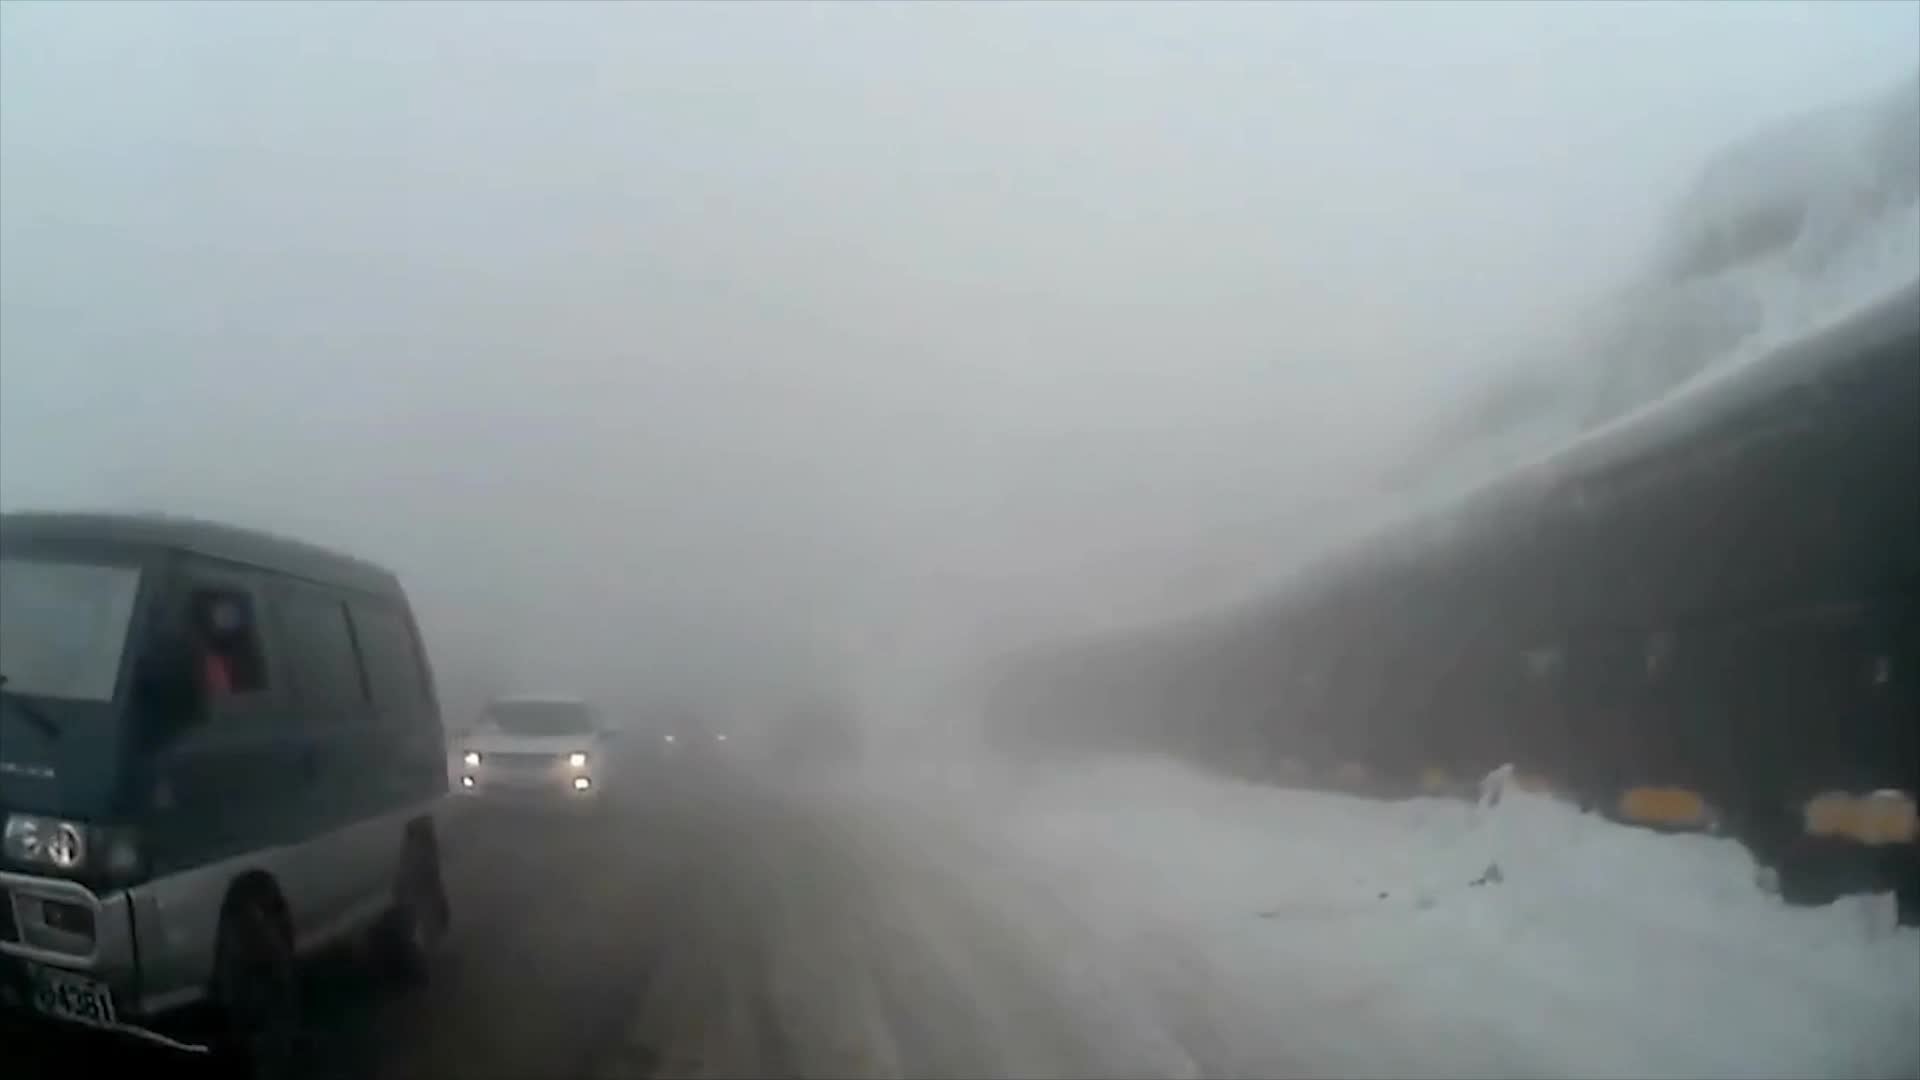vehicle: (0, 514, 459, 1077), (452, 694, 617, 824)
